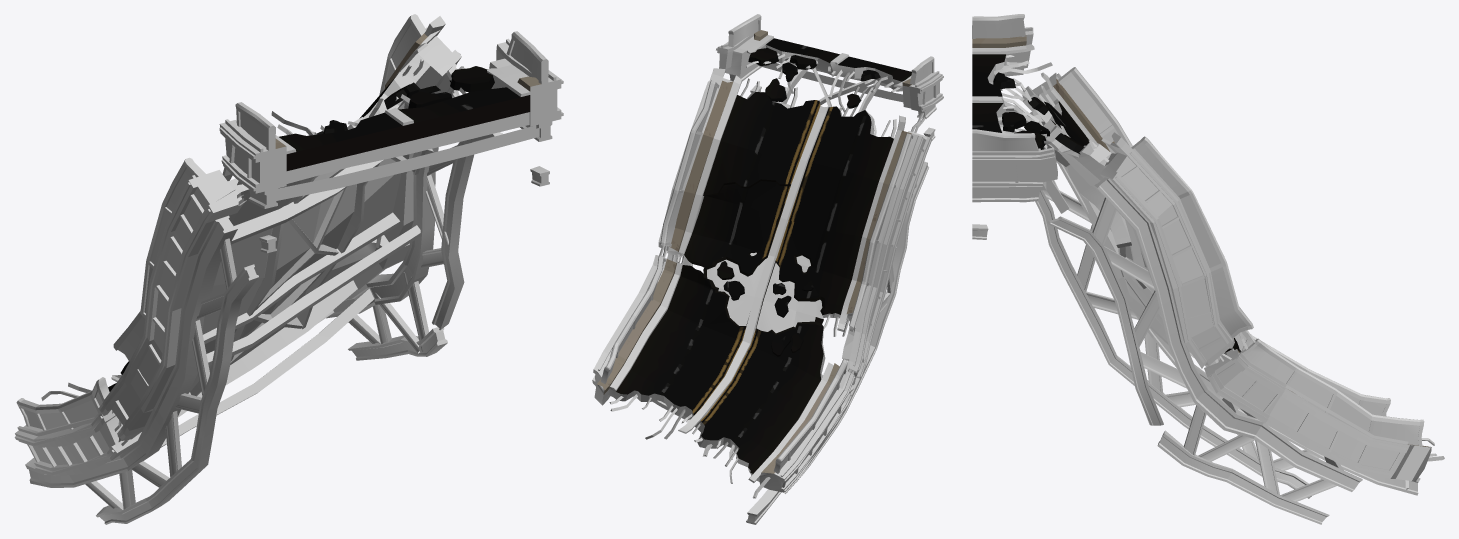
The model's file is SM_Bld_Bridge_End_02.fbx.
3 views of the same model, side by side, from view 1: azimuth 30°, elevation 25°; view 2: azimuth 150°, elevation 25°; view 3: azimuth 270°, elevation 25° (orthographic). The views are drawn at different scales.
Visible parts, largest first — view 1: SM_Bld_Bridge_End_02; view 2: SM_Bld_Bridge_End_02; view 3: SM_Bld_Bridge_End_02.
Part boxes in pixels (bbox=[...]): SM_Bld_Bridge_End_02: bbox=[14, 14, 563, 524]; SM_Bld_Bridge_End_02: bbox=[592, 14, 943, 524]; SM_Bld_Bridge_End_02: bbox=[972, 14, 1444, 524].
Size of the model in its own units: 2228 by 3495 by 3188.
